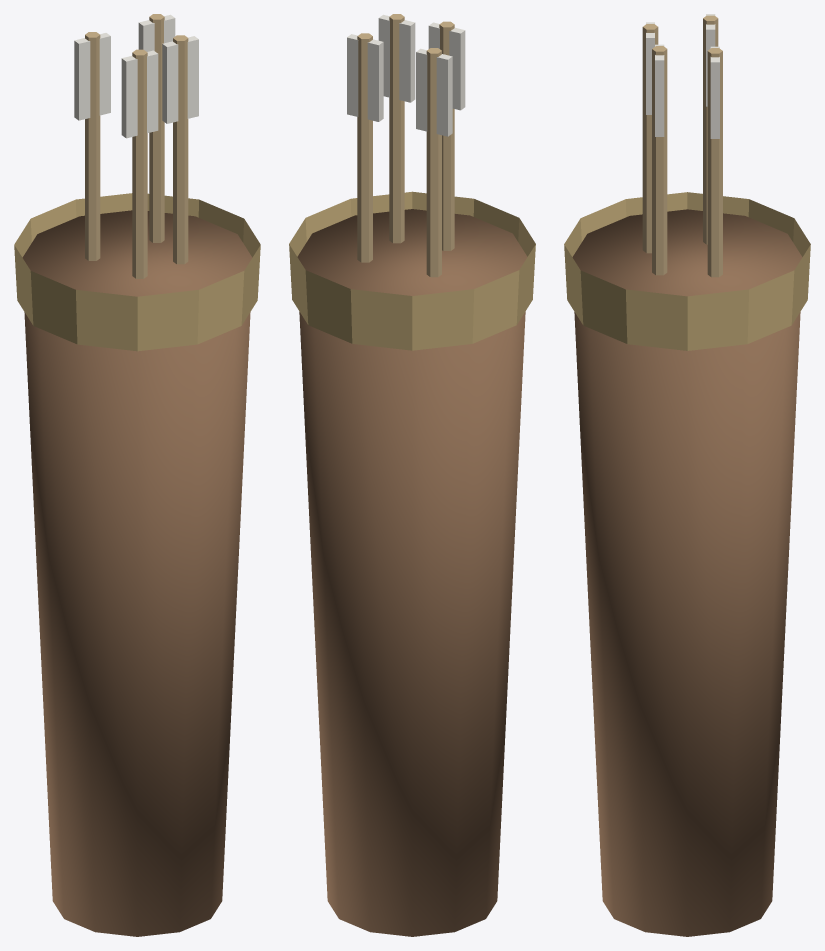
File: carcaj_leo.glb
3 views of the same model, side by side, from view 1: azimuth 30°, elevation 25°; view 2: azimuth 150°, elevation 25°; view 3: azimuth 270°, elevation 25° (orthographic).
Parts seen in each view (by area): view 1: CarcajLeo; view 2: CarcajLeo; view 3: CarcajLeo.
Part boxes in pixels (x1,y1,x2,y2): CarcajLeo: (14,14,260,936); CarcajLeo: (289,14,535,936); CarcajLeo: (564,14,810,936).
Size of the model in its own units: 0.16 by 0.62 by 0.16.
